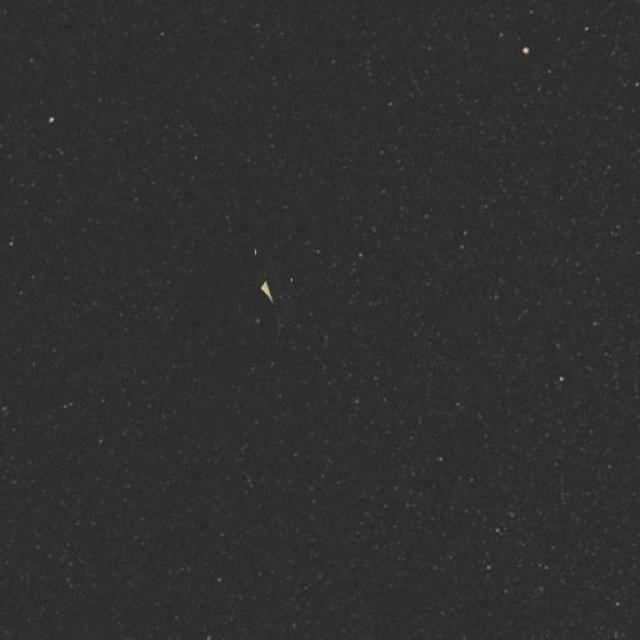proba_3_ocs: (185, 193, 323, 341)
